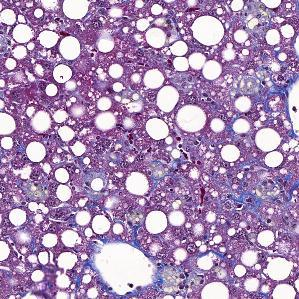fibrosis: (198, 165, 298, 222)
